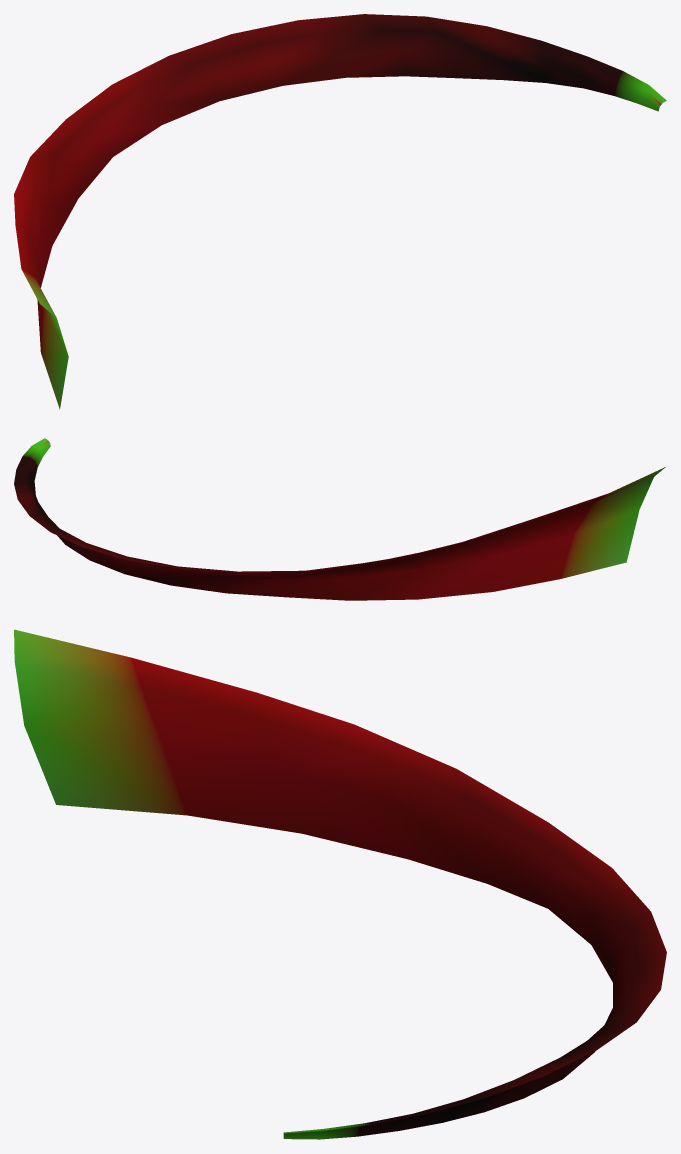
The model's file is sertz__uni_streak.glb.
3 views of the same model, one above another, from view 1: azimuth 30°, elevation 25°; view 2: azimuth 150°, elevation 25°; view 3: azimuth 270°, elevation 25° (orthographic). The views are drawn at different scales.
Parts seen in each view (by area): view 1: uni_streak; view 2: uni_streak; view 3: uni_streak.
Boxes of the visible parts, box(x1,y1,x2,y2) form: uni_streak: box(14, 14, 666, 409); uni_streak: box(14, 438, 665, 600); uni_streak: box(14, 629, 666, 1139).
Bounding box in the file's own units: 513 × 84.81 × 327.
